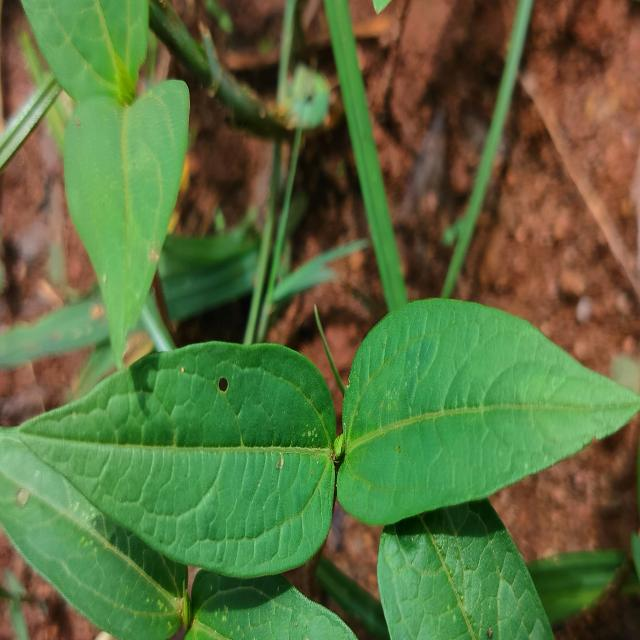Black gram_healthy: (16, 339, 344, 572), (334, 294, 640, 525), (62, 78, 190, 374)
